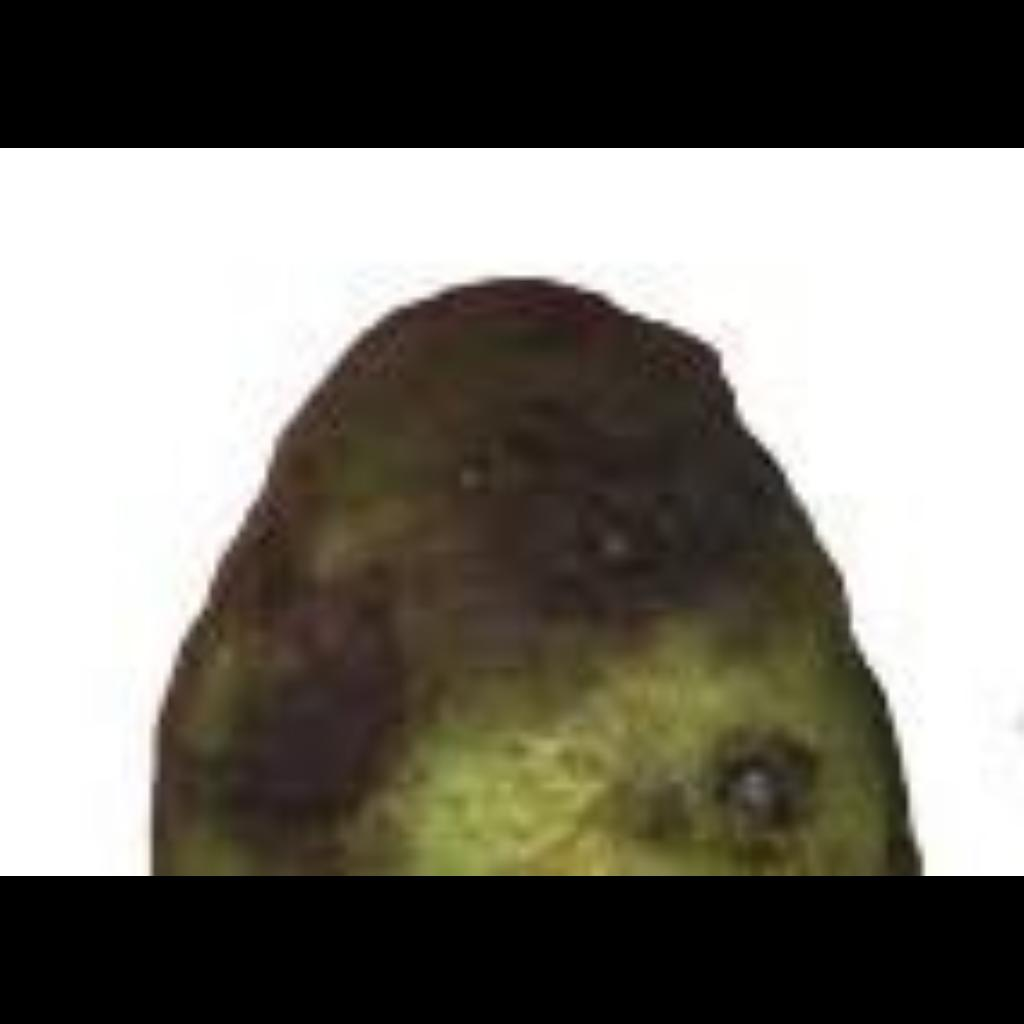Anthracnose: (285, 483, 819, 865)
